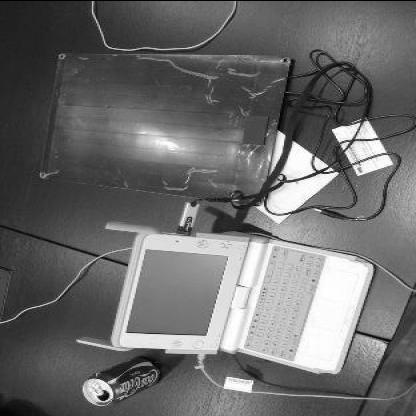alumunium_can: (84, 354, 162, 406)
